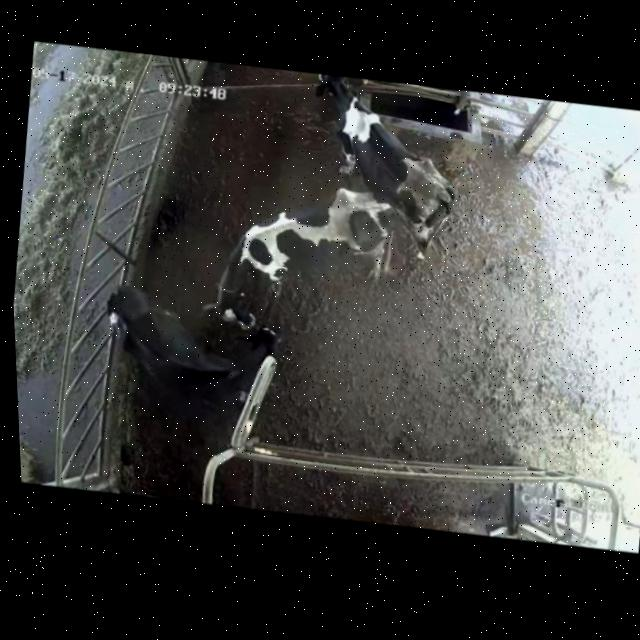stand: (182, 163, 416, 360), (296, 65, 477, 262), (93, 283, 253, 434)
